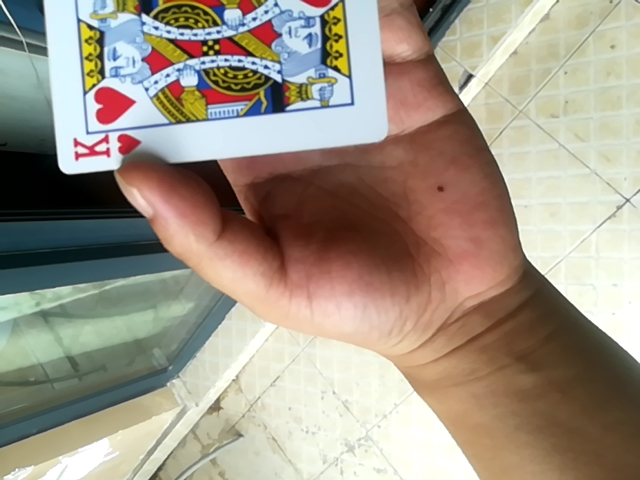hx k: (27, 0, 385, 176)
